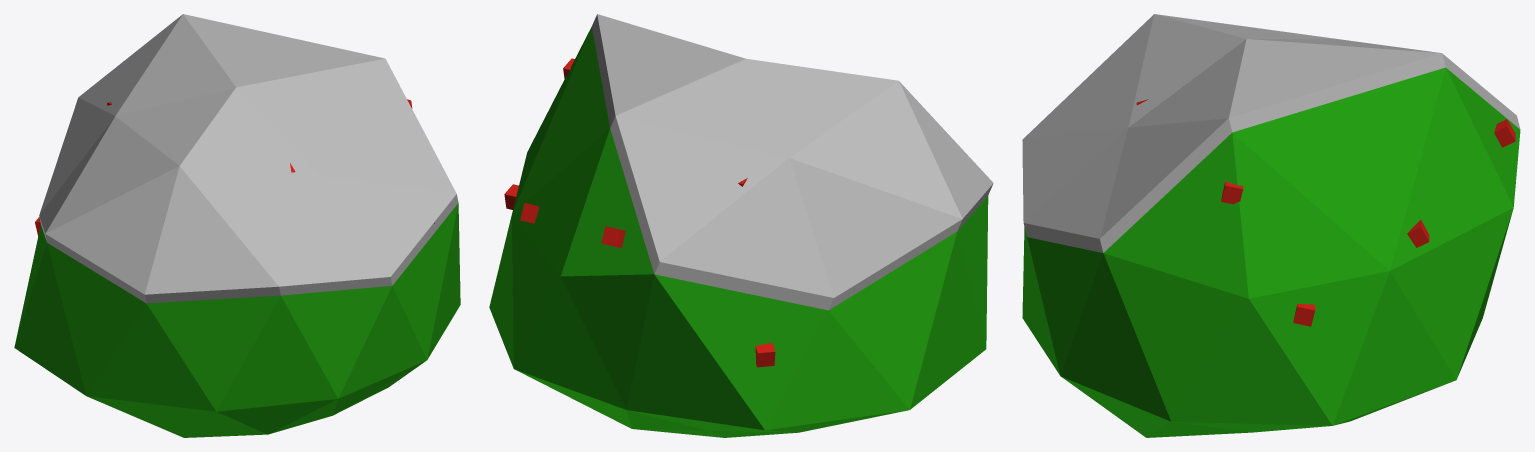
File: Bush_10 Winter.fbx
3 renders of one model, left to right at view 1: azimuth 30°, elevation 25°; view 2: azimuth 150°, elevation 25°; view 3: azimuth 270°, elevation 25°, orthographic. The views are drawn at different scales.
Visible parts, largest first — view 1: Bush10Winter_mesh; view 2: Bush10Winter_mesh; view 3: Bush10Winter_mesh.
Part boxes in pixels (<box>): Bush10Winter_mesh: <box>14,14,460,437</box>; Bush10Winter_mesh: <box>489,14,993,437</box>; Bush10Winter_mesh: <box>1022,14,1520,437</box>.
Bounding box in the file's own units: 128 × 102 × 124.
